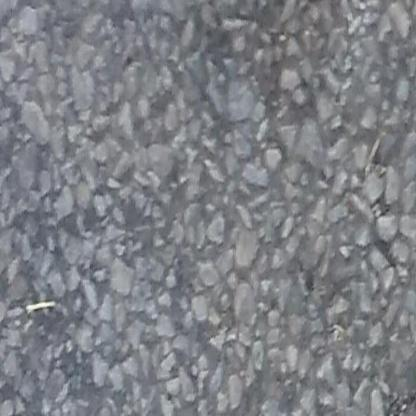Cracks: (375, 356, 416, 416)
